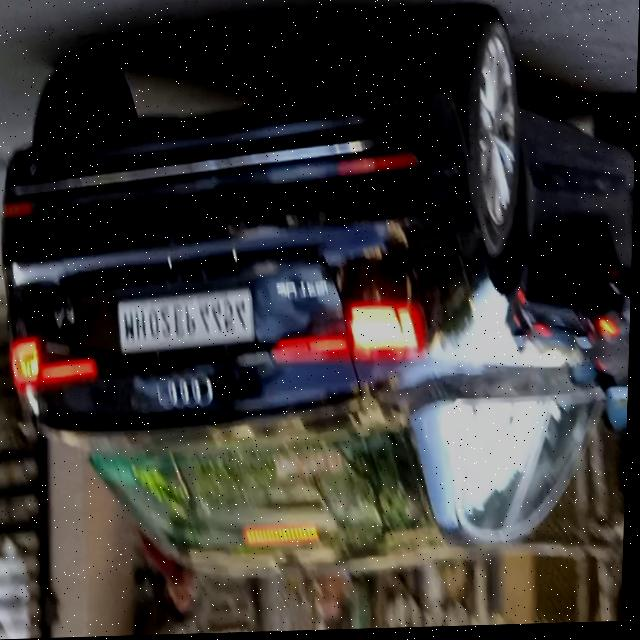plate: (122, 287, 260, 355)
